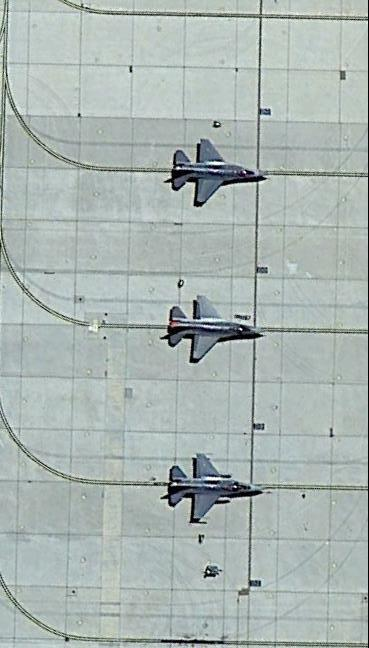F-16: (164, 289, 263, 367), (167, 453, 268, 525), (169, 136, 264, 210)
